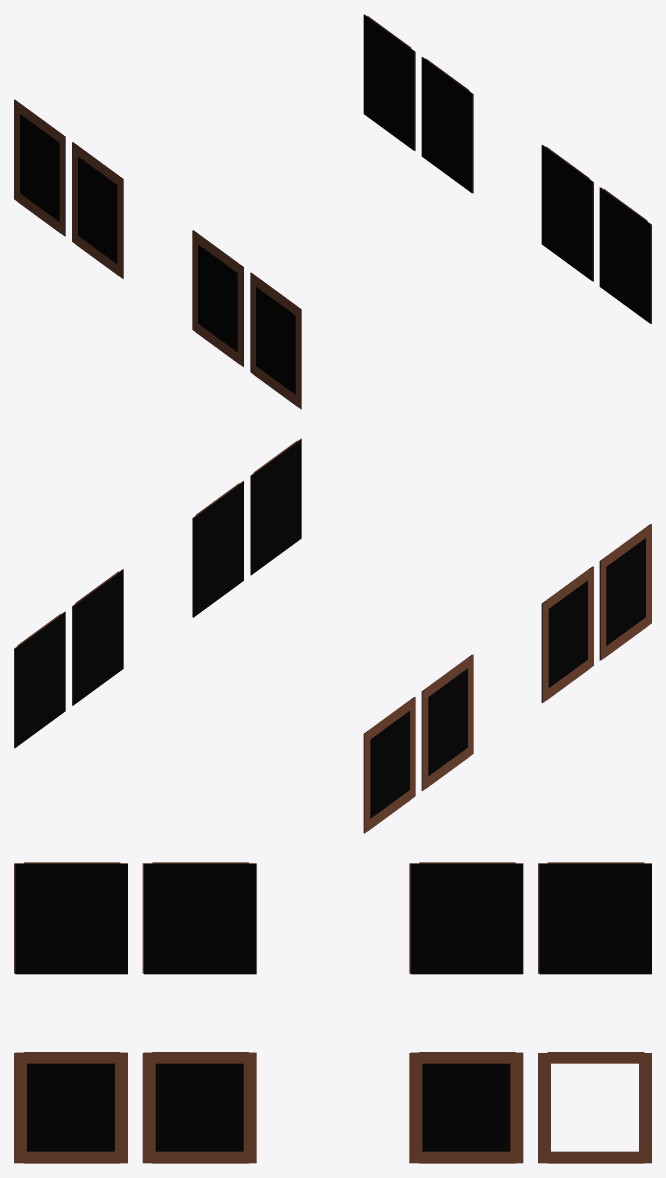
Rendered from fr-small-birmingham-first-windows.dae.
The picture shows the model from 3 angles, top to bottom: view 1: azimuth 30°, elevation 25°; view 2: azimuth 150°, elevation 25°; view 3: azimuth 270°, elevation 25°; orthographic projection. The views are drawn at different scales.
Parts seen in each view (by area): view 1: Plane_181, Plane_182, Plane_192, Plane_191, Plane_162, Plane_171, Plane_161, Plane_172, Plane_173, Plane_163, Plane_170, Plane_034 (+4 smaller); view 2: Plane_192, Plane_191, Plane_181, Plane_182, Plane_172, Plane_161, Plane_162, Plane_171, Plane_164, Plane_033, Plane_169, Plane_174 (+4 smaller); view 3: Plane_161, Plane_162, Plane_171, Plane_172, Plane_182, Plane_192, Plane_181, Plane_183, Plane_184, Plane_194, Plane_193, Plane_180 (+11 smaller).
Part boxes in pixels (x1=…): Plane_181: x1=599, y1=187, x2=650, y2=323; Plane_182: x1=541, y1=145, x2=592, y2=281; Plane_192: x1=421, y1=57, x2=472, y2=192; Plane_191: x1=363, y1=15, x2=414, y2=150; Plane_162: x1=14, y1=99, x2=65, y2=235; Plane_171: x1=193, y1=230, x2=243, y2=366; Plane_161: x1=72, y1=142, x2=123, y2=278; Plane_172: x1=251, y1=272, x2=301, y2=394; Plane_173: x1=295, y1=306, x2=301, y2=409; Plane_163: x1=59, y1=133, x2=65, y2=236; Plane_170: x1=237, y1=264, x2=243, y2=366; Plane_034: x1=117, y1=177, x2=123, y2=278; Plane_192: x1=72, y1=569, x2=123, y2=705; Plane_191: x1=14, y1=612, x2=65, y2=748; Plane_181: x1=251, y1=439, x2=301, y2=575; Plane_182: x1=193, y1=481, x2=243, y2=617; Plane_172: x1=599, y1=524, x2=650, y2=660; Plane_161: x1=421, y1=655, x2=471, y2=790; Plane_162: x1=363, y1=697, x2=414, y2=832; Plane_171: x1=541, y1=566, x2=592, y2=702; Plane_164: x1=364, y1=730, x2=370, y2=833; Plane_033: x1=422, y1=687, x2=428, y2=790; Plane_169: x1=542, y1=599, x2=548, y2=702; Plane_174: x1=600, y1=557, x2=606, y2=660; Plane_161: x1=410, y1=863, x2=523, y2=974; Plane_162: x1=539, y1=863, x2=651, y2=974; Plane_171: x1=144, y1=863, x2=256, y2=974; Plane_172: x1=15, y1=863, x2=127, y2=974; Plane_182: x1=144, y1=1052, x2=256, y2=1151; Plane_192: x1=411, y1=1052, x2=522, y2=1151; Plane_181: x1=15, y1=1052, x2=127, y2=1151; Plane_183: x1=142, y1=1053, x2=155, y2=1163; Plane_184: x1=243, y1=1053, x2=256, y2=1163; Plane_194: x1=510, y1=1053, x2=523, y2=1163; Plane_193: x1=409, y1=1053, x2=422, y2=1163; Plane_180: x1=14, y1=1053, x2=26, y2=1163.
Bounding box in the file's own units: 1.05 × 1.5 × 0.2896.
